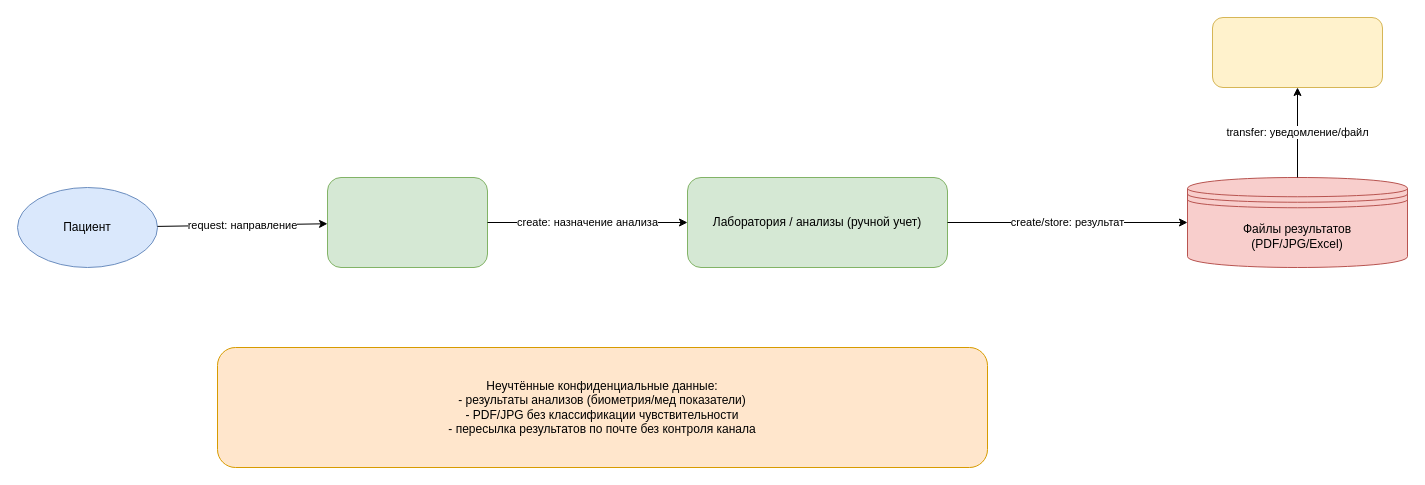
Image size: 1425x485. Some labels were removed from this diagram. Here are the shapes that lost their labels. From the top down, the box of each, then its label:
(1212, 16, 1382, 88): Ресепшен / почта
(326, 176, 488, 268): Медик
